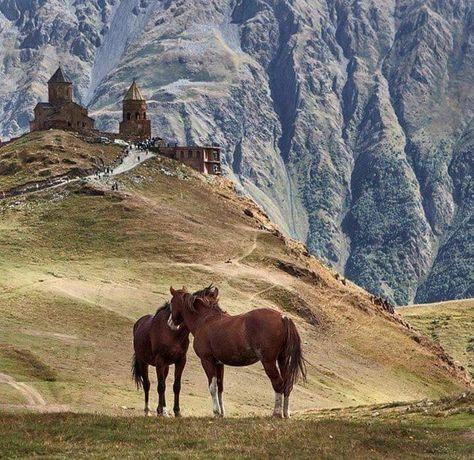horse: (167, 282, 307, 419)
